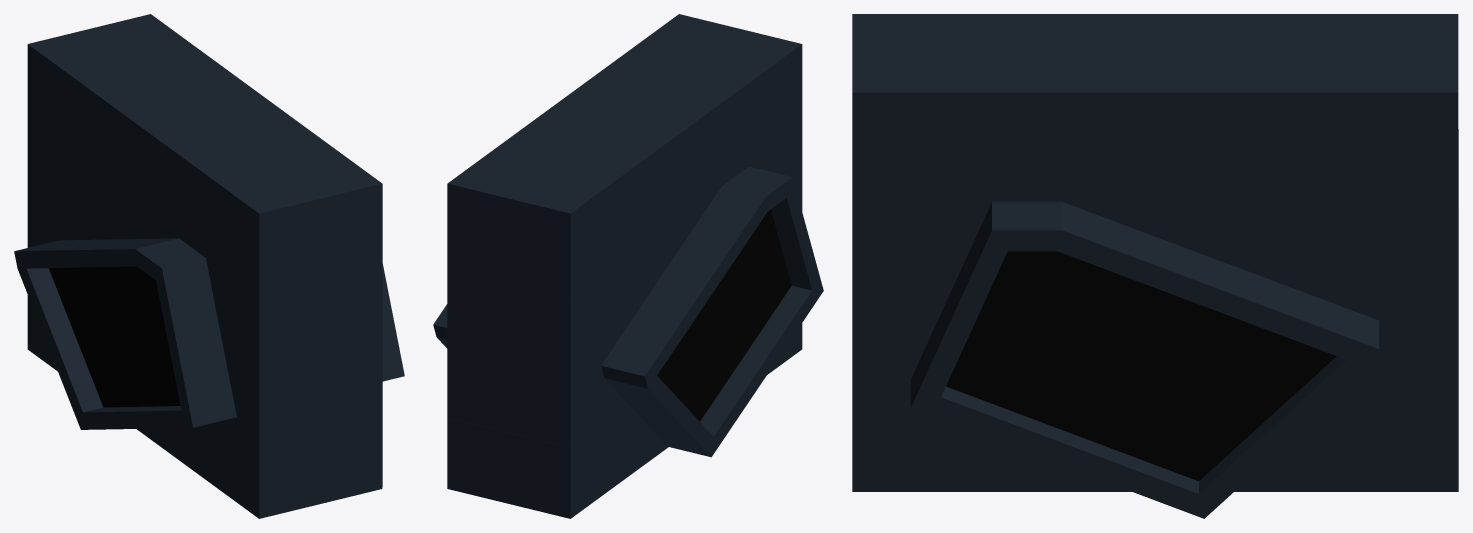
File: clu_little_window.obj
3 renders of one model, left to right at view 1: azimuth 30°, elevation 25°; view 2: azimuth 150°, elevation 25°; view 3: azimuth 270°, elevation 25°, orthographic. The views are drawn at different scales.
Parts seen in each view (by area): view 1: cube.037, cube.035, cube.038, cube.001, cube.003, cube.015, cube, cube.002, cube.004, cube.034, cube.000, cube.025 (+13 smaller); view 2: cube.035, cube.015, cube, cube.038, cube.037, cube.002, cube.010, cube.003, cube.001, cube.034, cube.004, cube.000 (+4 smaller); view 3: cube.035, cube.038, cube.037, cube.015, cube, cube.002, cube.004, cube.001, cube.003, cube.034, cube.010, cube.016 (+23 smaller).
Boxes of the visible parts, box(x1,y1,x2,y2) form: cube.037: box(232, 165, 382, 517); cube.035: box(27, 14, 356, 277); cube.038: box(67, 266, 180, 407); cube.001: box(154, 258, 404, 427); cube.003: box(18, 263, 103, 428); cube.015: box(27, 132, 60, 371); cube: box(14, 238, 177, 268); cube.002: box(77, 406, 184, 429); cube.004: box(46, 165, 88, 240); cube.034: box(27, 128, 178, 238); cube.000: box(135, 238, 205, 284); cube.025: box(209, 417, 243, 488); cube.035: box(447, 32, 776, 296); cube.015: box(447, 271, 603, 518); cube: box(433, 186, 768, 388); cube.038: box(663, 209, 791, 421); cube.037: box(654, 14, 802, 355); cube.002: box(668, 285, 815, 456); cube.010: box(448, 371, 637, 489); cube.003: box(437, 337, 717, 456); cube.001: box(771, 178, 823, 302); cube.034: box(447, 186, 721, 311); cube.004: box(589, 266, 631, 361); cube.000: box(722, 166, 792, 210); cube.035: box(919, 14, 1458, 201); cube.038: box(946, 251, 1289, 481); cube.037: box(852, 14, 922, 483); cube.015: box(1372, 129, 1458, 491); cube: box(1053, 202, 1378, 368); cube.002: box(932, 386, 1207, 518); cube.004: box(1297, 206, 1410, 317); cube.001: box(910, 202, 1012, 416); cube.003: box(1188, 356, 1369, 518); cube.034: box(1062, 201, 1458, 222); cube.010: box(1297, 327, 1449, 476); cube.016: box(852, 476, 1371, 491).
Bounding box in the file's own units: 1.5 × 2.07 × 2.85.
